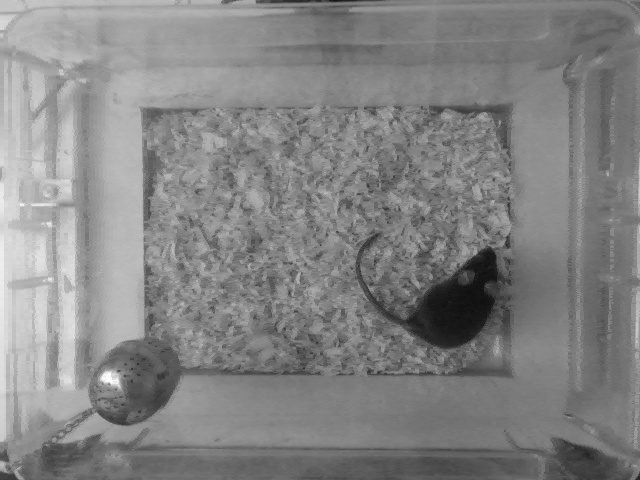mice: (354, 227, 501, 349)
